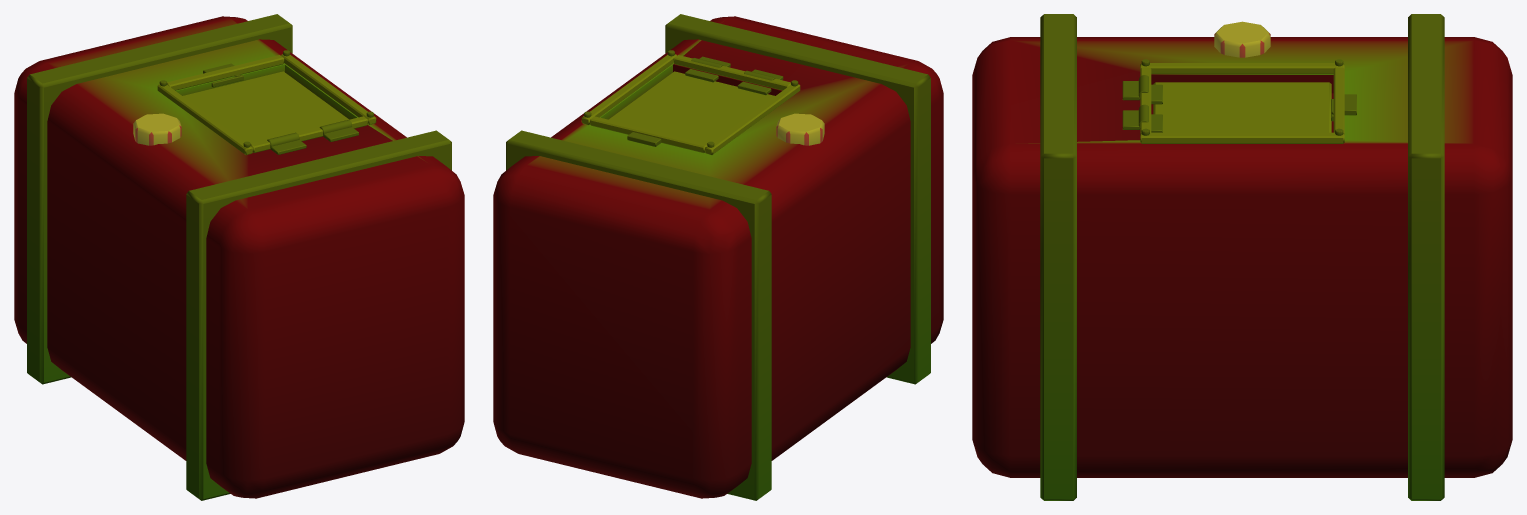
Rendered from RCLModule_salvage_hauler_hazard_industrial_sponsons.fbx.
The picture shows the model from 3 angles, left to right: view 1: azimuth 30°, elevation 25°; view 2: azimuth 150°, elevation 25°; view 3: azimuth 270°, elevation 25°; orthographic projection. The views are drawn at different scales.
Visible parts, largest first — view 1: RCLModule_salvage_hauler_hazard_industrial_sponsons_Batch_RC (×3); view 2: RCLModule_salvage_hauler_hazard_industrial_sponsons_Batch_RC (×3); view 3: RCLModule_salvage_hauler_hazard_industrial_sponsons_Batch_RC (×3).
Boxes of the visible parts, x1,y1,x2,y2 form: RCLModule_salvage_hauler_hazard_industrial_sponsons_Batch_RC (×3): (14, 14, 464, 500); RCLModule_salvage_hauler_hazard_industrial_sponsons_Batch_RC (×3): (493, 14, 943, 500); RCLModule_salvage_hauler_hazard_industrial_sponsons_Batch_RC (×3): (972, 14, 1512, 500).
Bounding box in the file's own units: 46.2 × 53.25 × 74.
